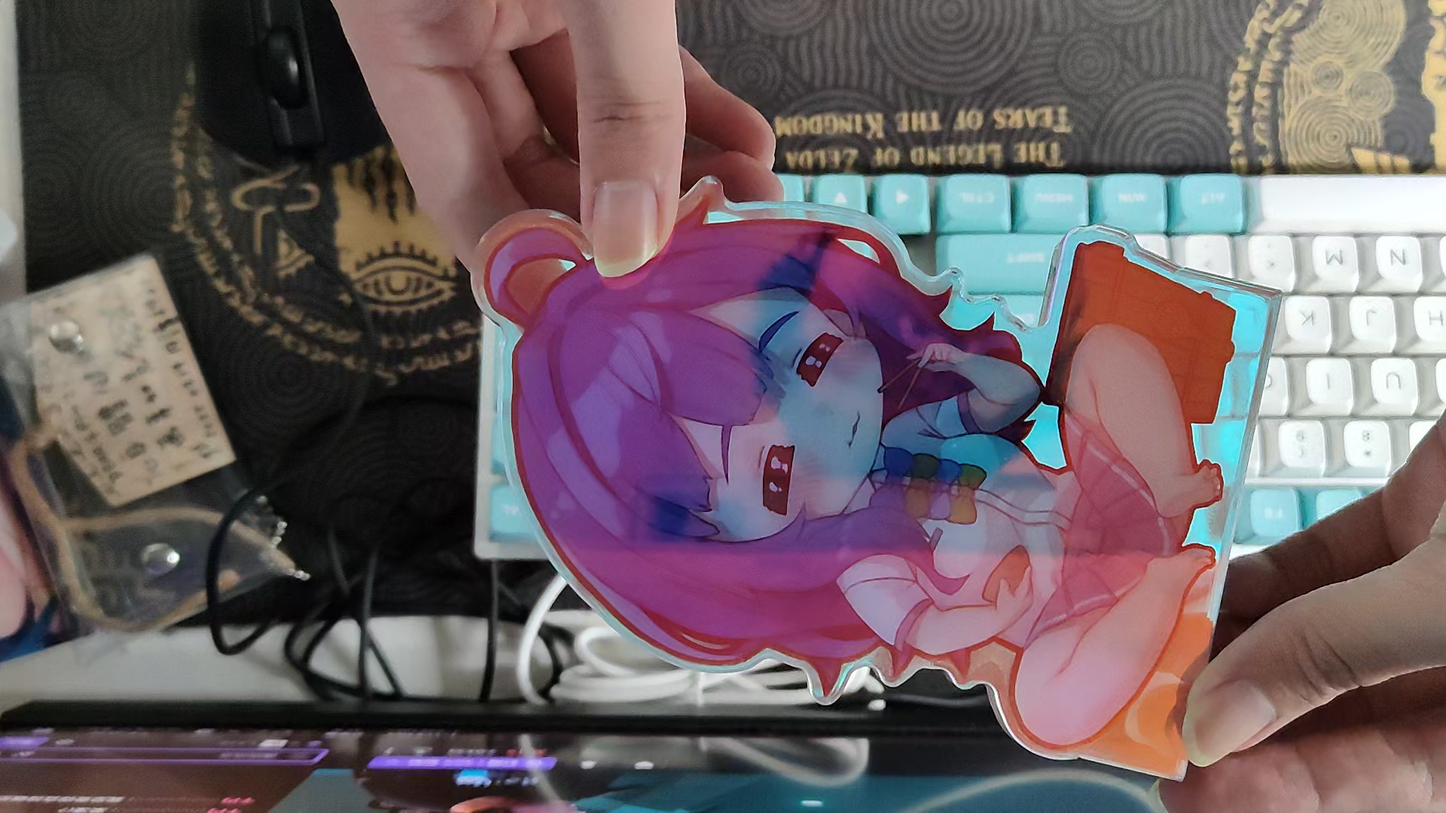Yanami-anna: (473, 172, 1284, 779)
